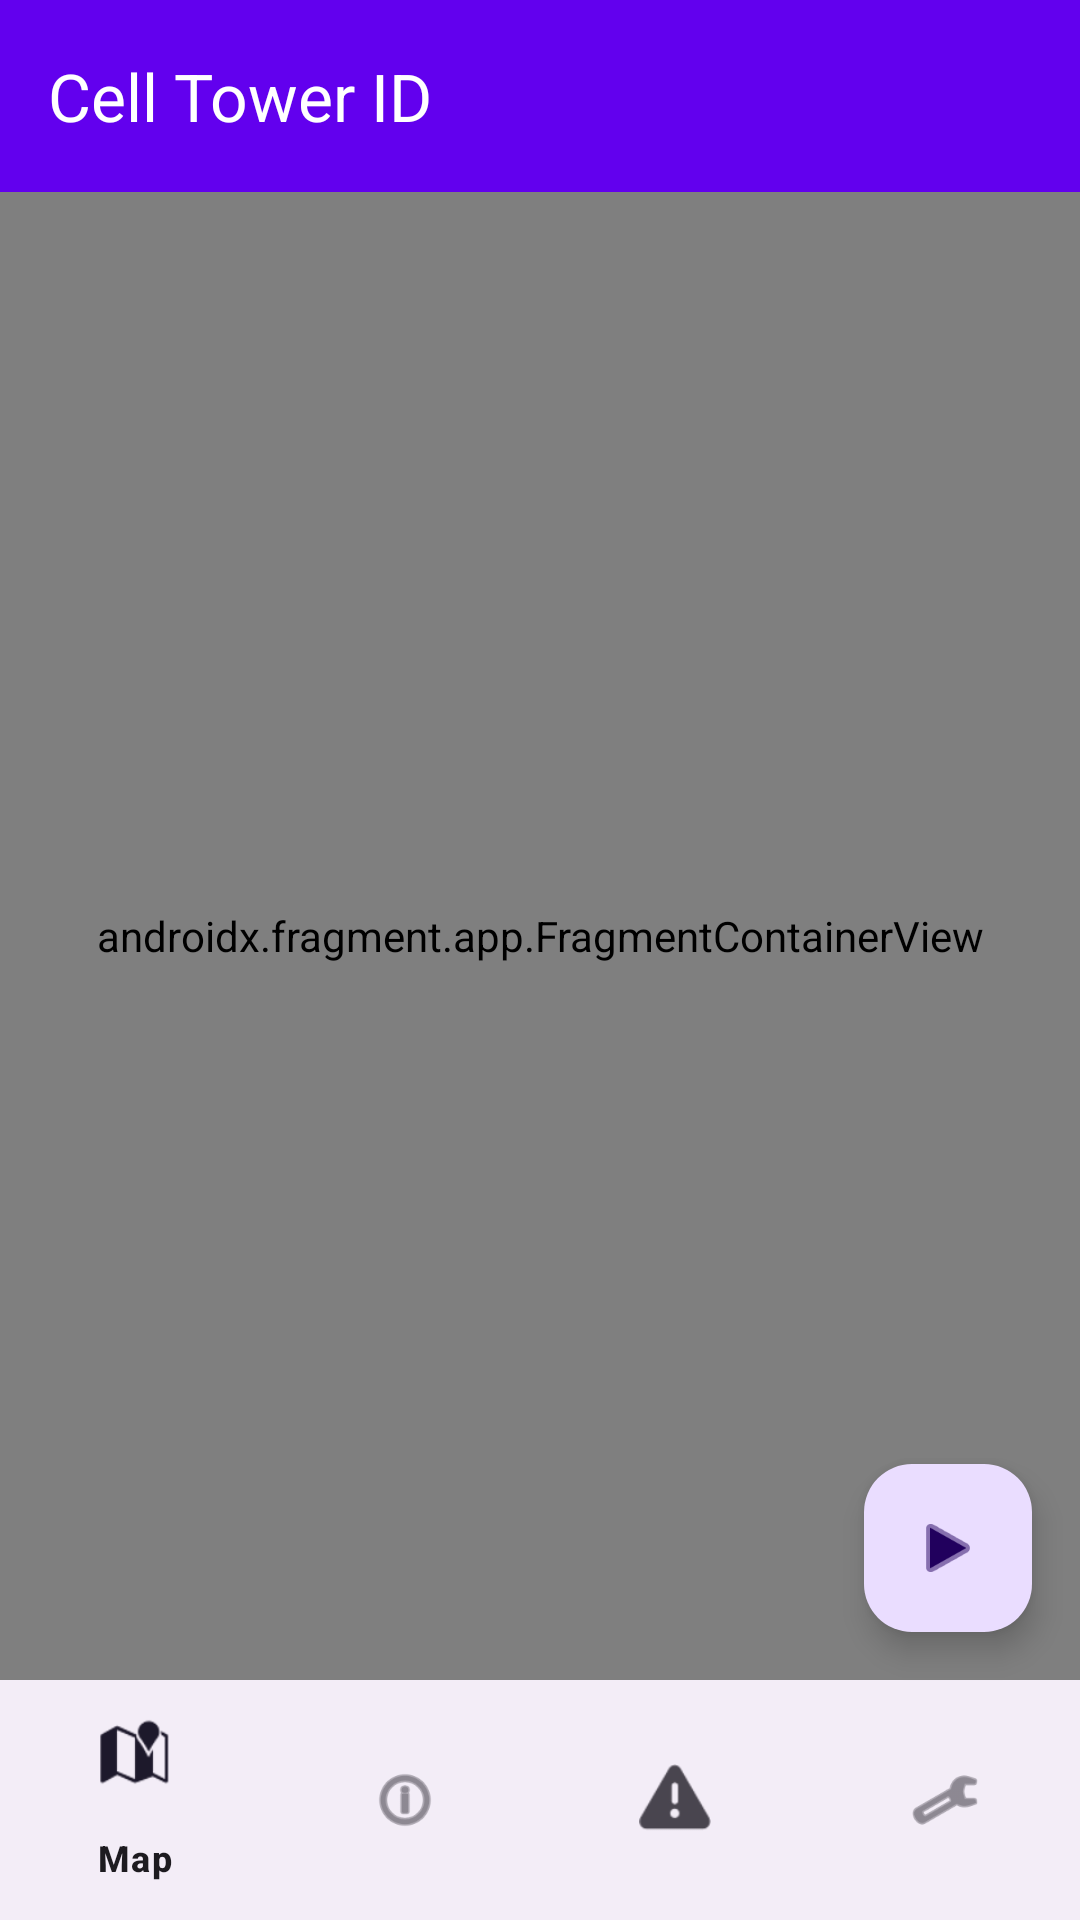

Named icons in this screenshot (1080 × 1920) and their centers, (x,y):
Start collection: (948,1548)
